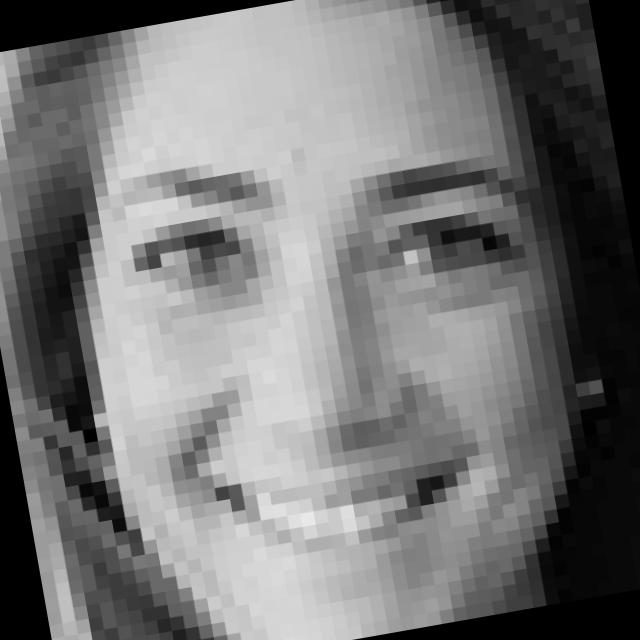happy: (102, 105, 592, 620)
